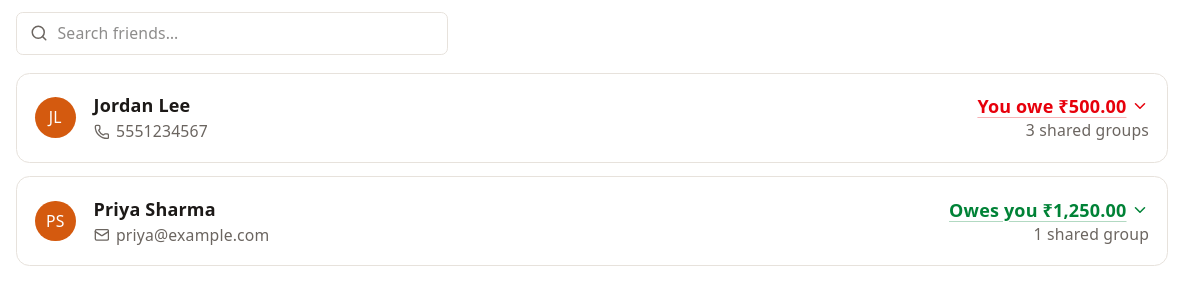
Scenario: FriendsPage › search › filters friends by phone number
In the search field labelled "Search friends…": (232, 33) top-left (16, 12), bottom-right (448, 54), type "5551234567"
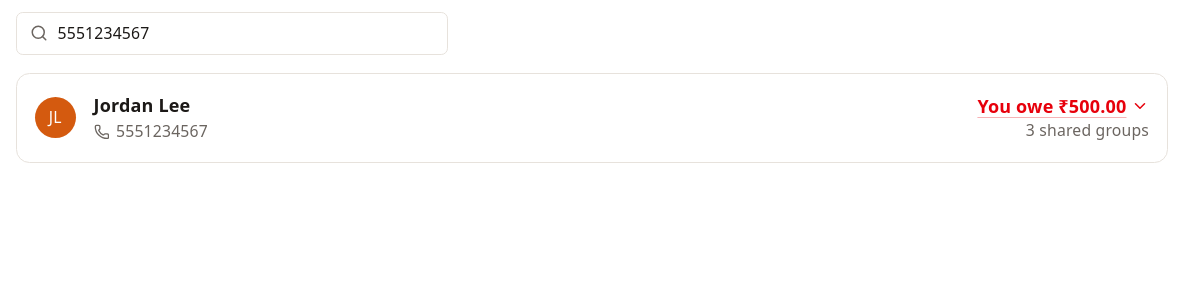
Expected: the text "Jordan Lee" is shown, top-left (94, 93), bottom-right (190, 117)
Now the text "Priya Sharma" is gone
